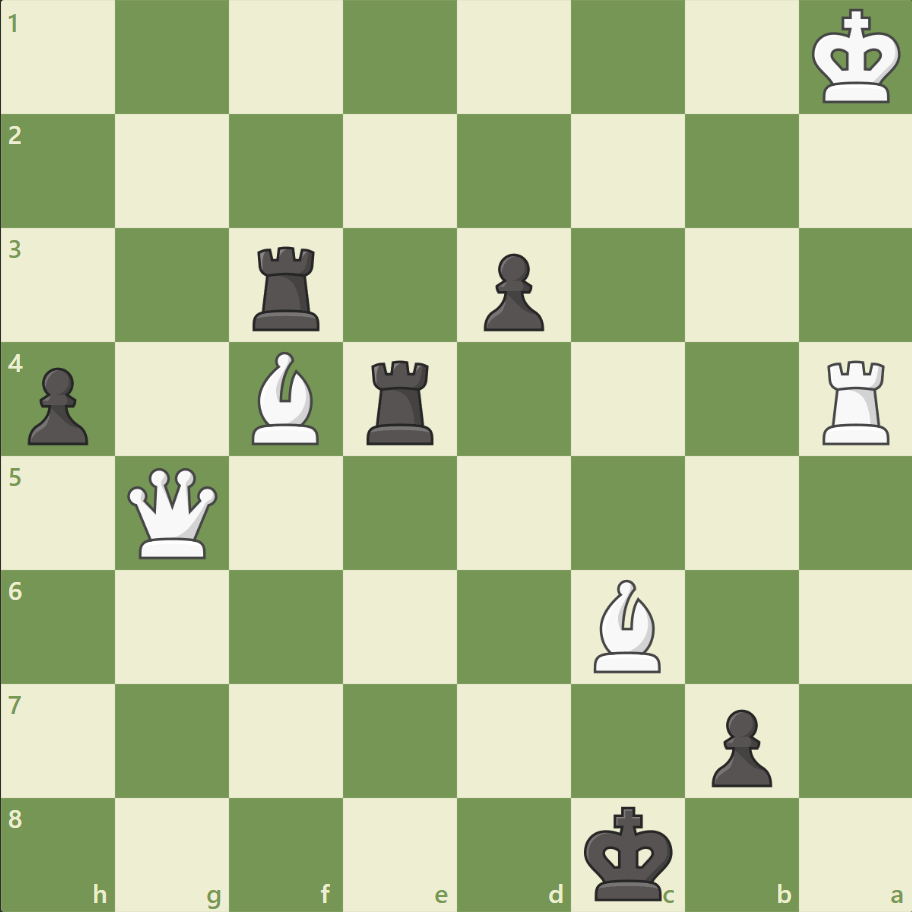B: (585, 574, 669, 676), (244, 347, 328, 449)
K: (806, 4, 906, 112)
Q: (124, 463, 223, 562)
R: (814, 352, 897, 449)
k: (579, 798, 679, 906)
p: (701, 700, 776, 791), (20, 359, 95, 450), (474, 246, 549, 337)
r: (246, 239, 329, 336), (360, 352, 442, 449)
